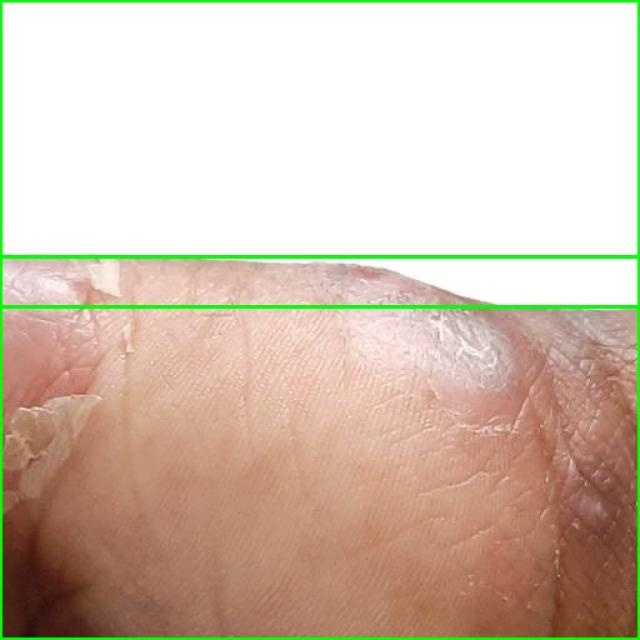Scabies: (0, 256, 639, 639), (0, 0, 639, 308)
